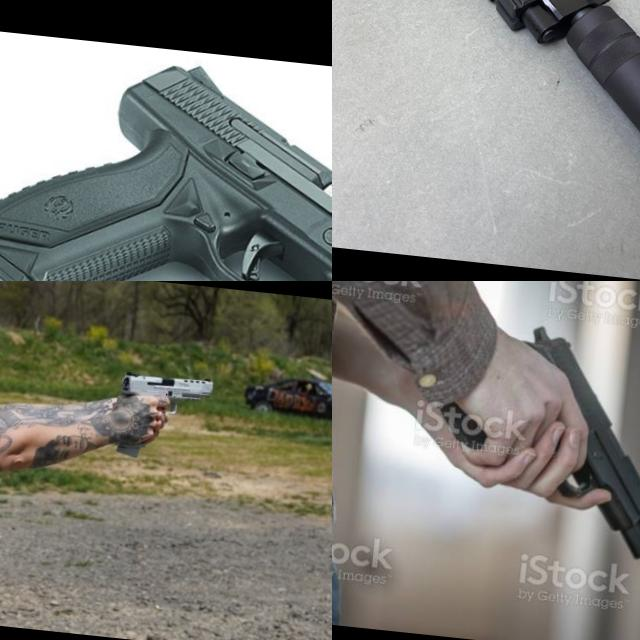handgun: (0, 38, 332, 281), (332, 0, 635, 137), (497, 318, 640, 567), (116, 364, 217, 421)
